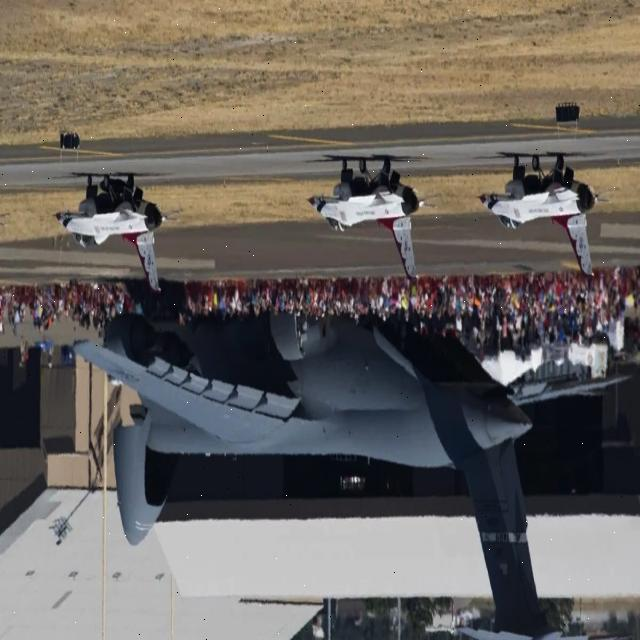C5: (0, 220, 591, 640)
